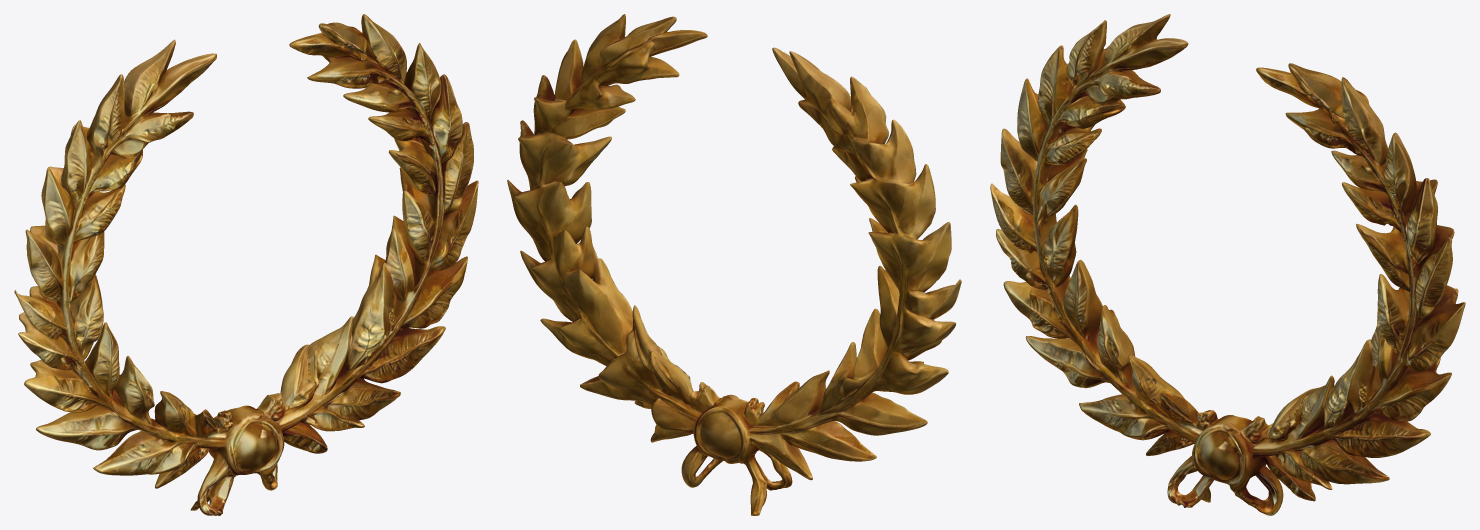
File: laurel-wreath.glb
3 renders of one model, left to right at view 1: azimuth 30°, elevation 25°; view 2: azimuth 150°, elevation 25°; view 3: azimuth 330°, elevation 25°, orthographic. The views are drawn at different scales.
Visible parts, largest first — view 1: tripo_node_45bd14f0-f73c-4648-a8ea-3f755c816948; view 2: tripo_node_45bd14f0-f73c-4648-a8ea-3f755c816948; view 3: tripo_node_45bd14f0-f73c-4648-a8ea-3f755c816948.
Boxes of the visible parts, x1=… form: tripo_node_45bd14f0-f73c-4648-a8ea-3f755c816948: x1=14, y1=14, x2=478, y2=515; tripo_node_45bd14f0-f73c-4648-a8ea-3f755c816948: x1=507, y1=14, x2=961, y2=515; tripo_node_45bd14f0-f73c-4648-a8ea-3f755c816948: x1=990, y1=14, x2=1465, y2=515.
Bounding box in the file's own units: 0.9807 × 0.9696 × 0.1129.
Materials: 1 (1 with a texture image).
